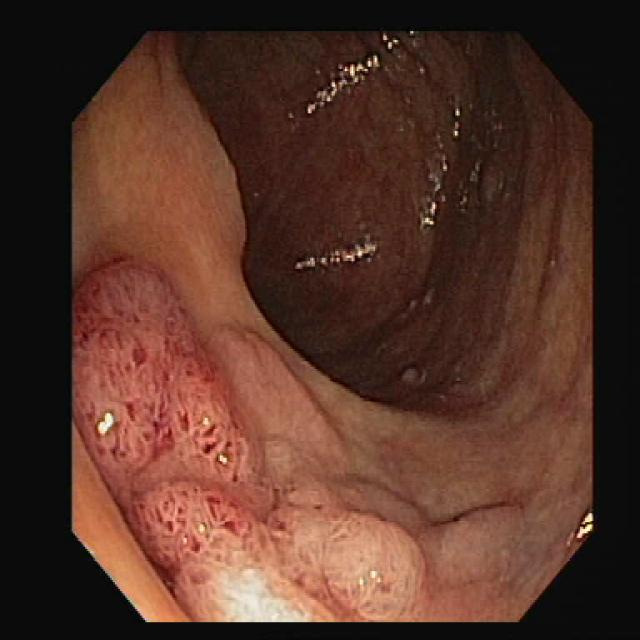tumor: (71, 242, 467, 616)
